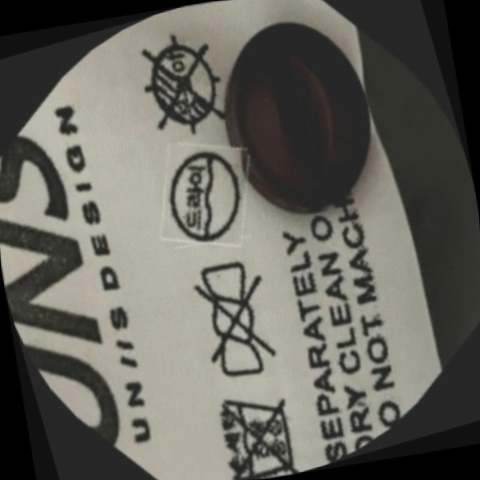DN_dry: (84, 0, 285, 188)
DN_wring: (124, 207, 351, 434)
dry_clean: (114, 103, 298, 289)
hand_wash: (155, 334, 341, 480)
